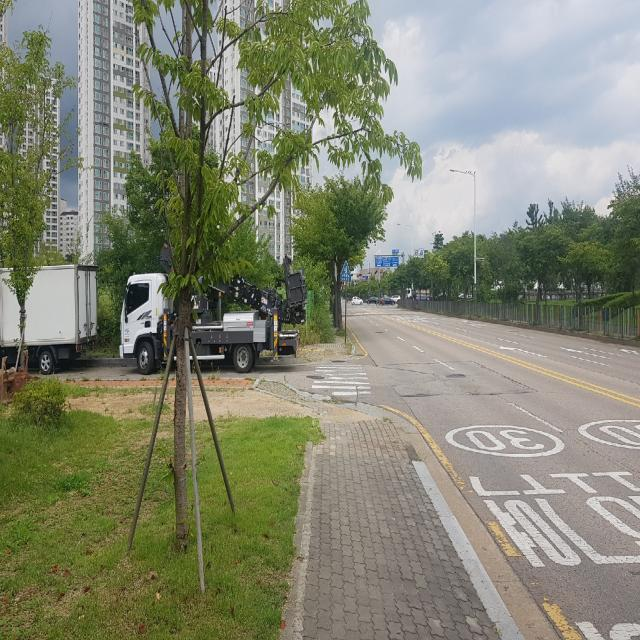횡단보도: (311, 364, 375, 396)
